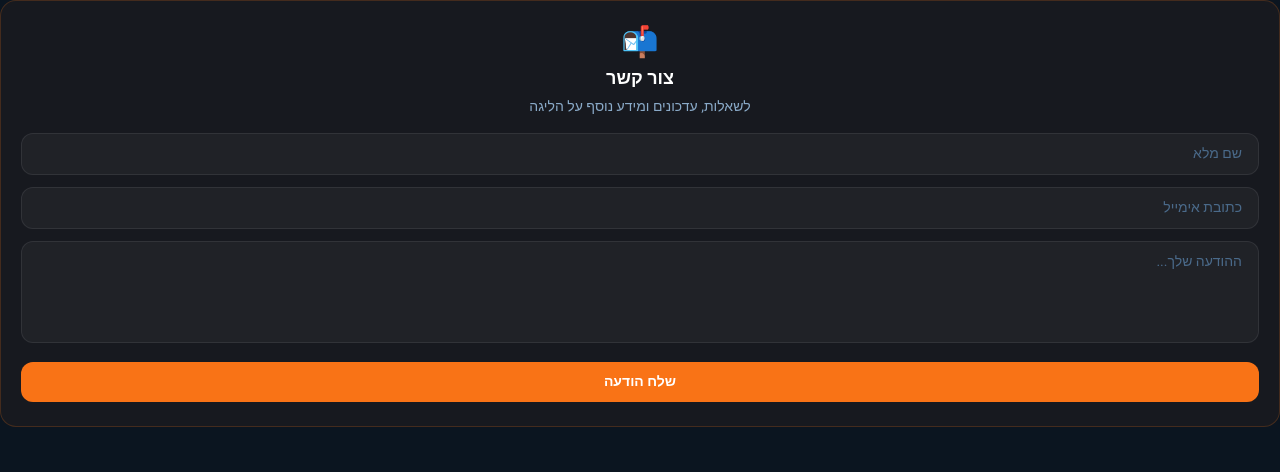
Scenario: ContactForm › shows the server-provided error message on a failed submission
Step 1. Type "Dana" into the field with placeholder "שם מלא" → (640, 154), box [21,133,1259,175]
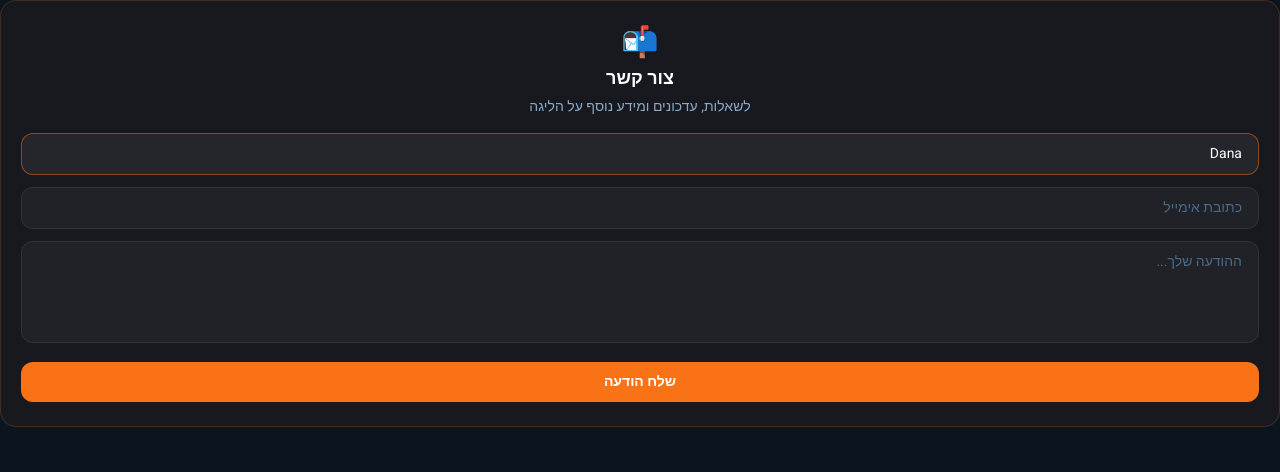
Step 2. Type "dana@x.com" into the field with placeholder "כתובת אימייל" → (640, 208), box [21,187,1259,229]
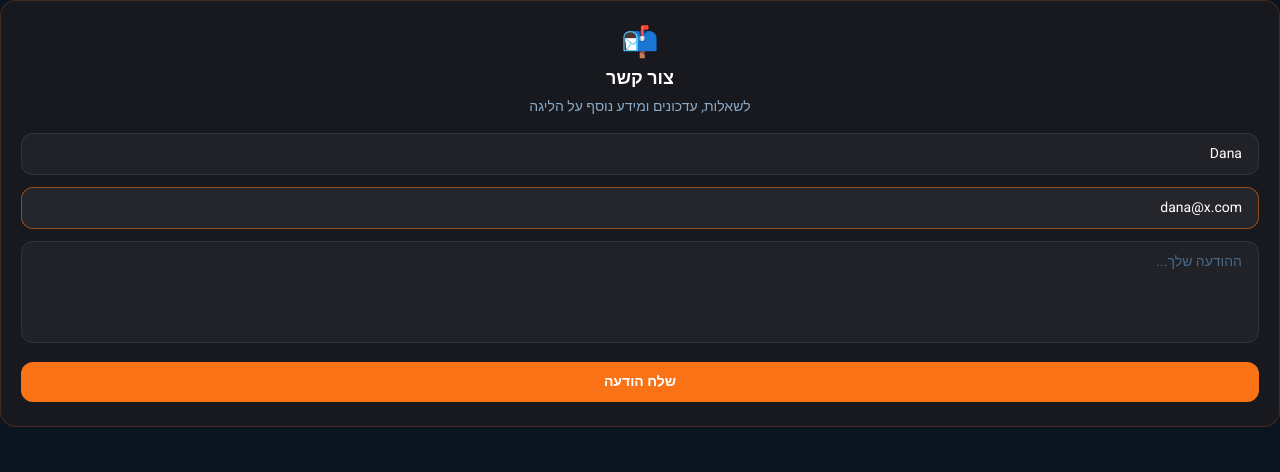
Step 3. Type "Hello there" into the text box with placeholder "ההודעה שלך..." → (640, 292), box [21,241,1259,343]
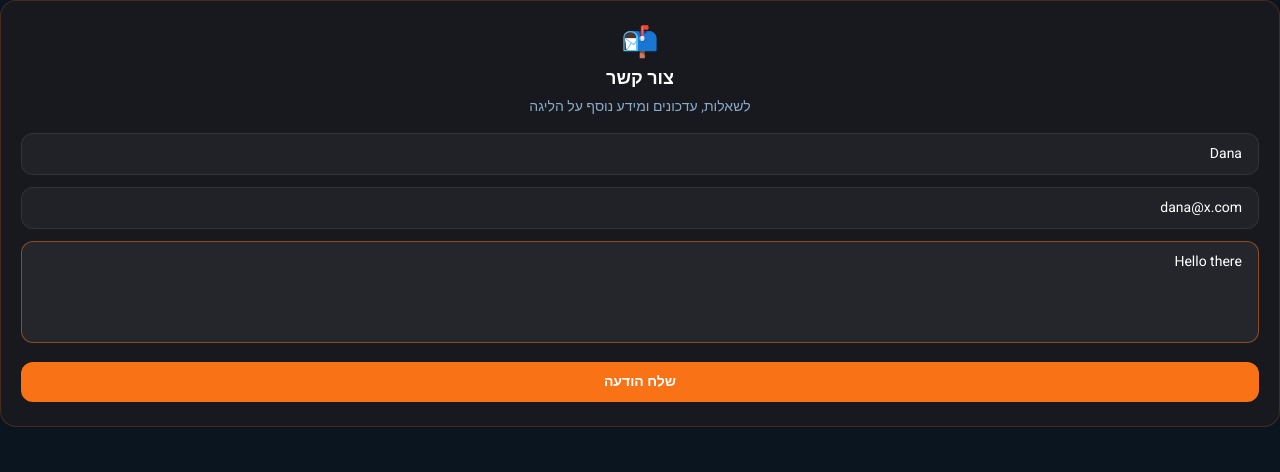
Step 4. Click the button "שלח הודעה" → (640, 382), box [21,362,1259,402]
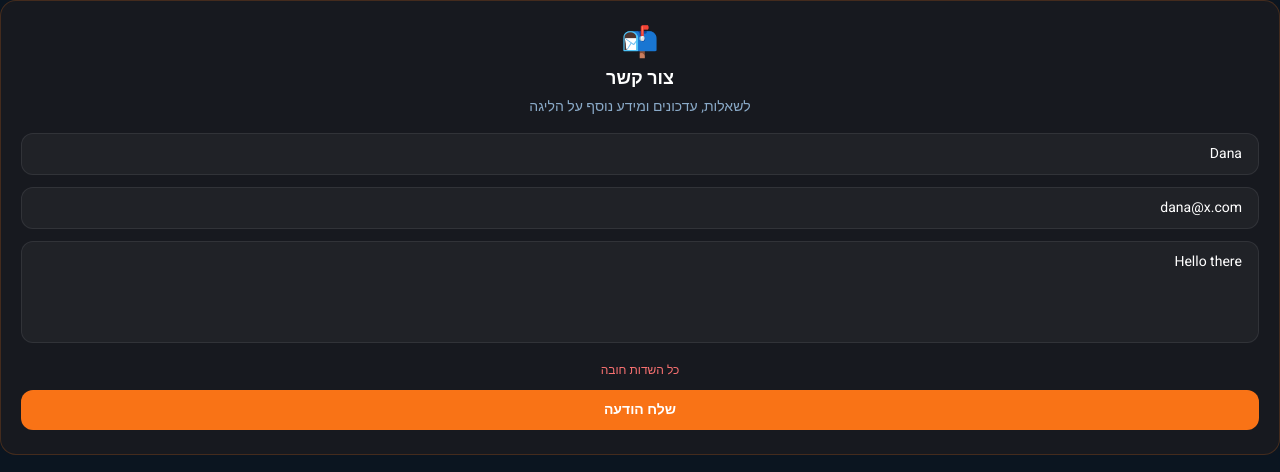
Expected: the text "כל השדות חובה" is shown, [601,361,679,379]
